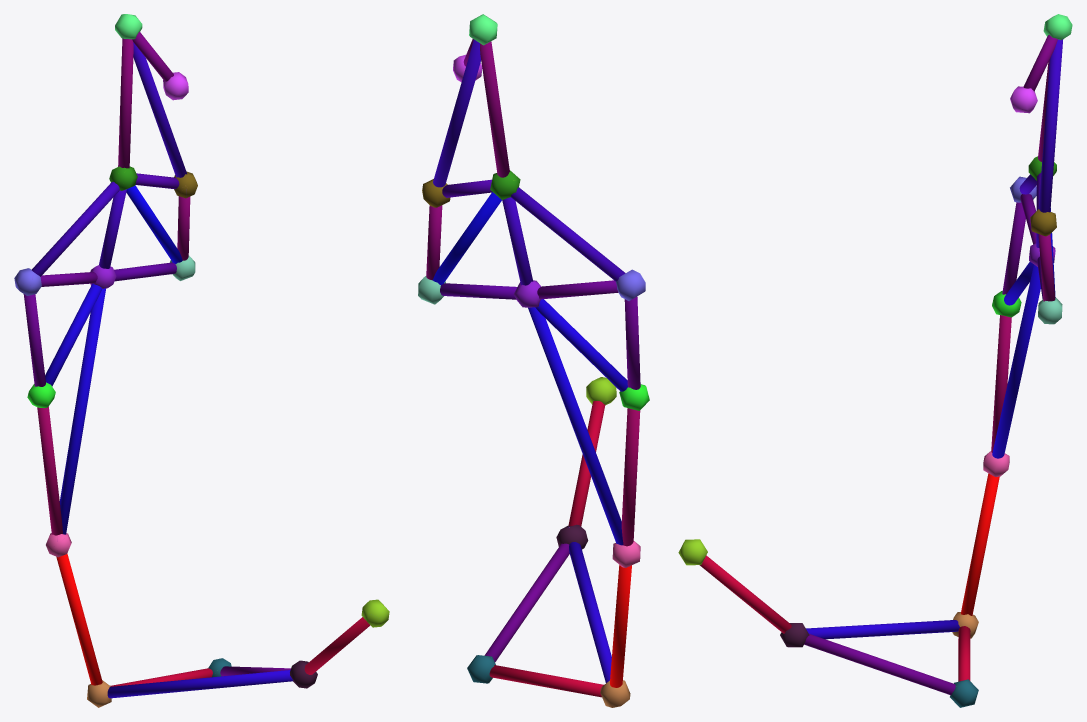
Rendered from fg-00010-skel.obj.
3 views of the same model, side by side, from view 1: azimuth 30°, elevation 25°; view 2: azimuth 150°, elevation 25°; view 3: azimuth 270°, elevation 25° (orthographic). The views are drawn at different scales.
Size of the model in its own units: 0.0833 by 0.2466 by 0.1317.
1 material, 1 textured.
